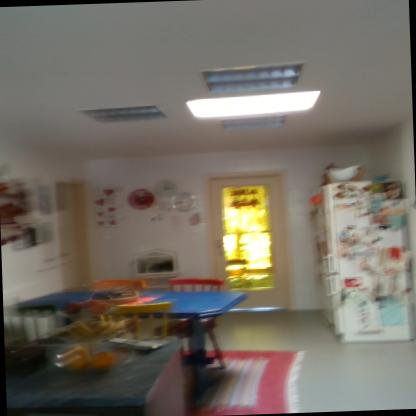closed: (198, 162, 296, 307)
